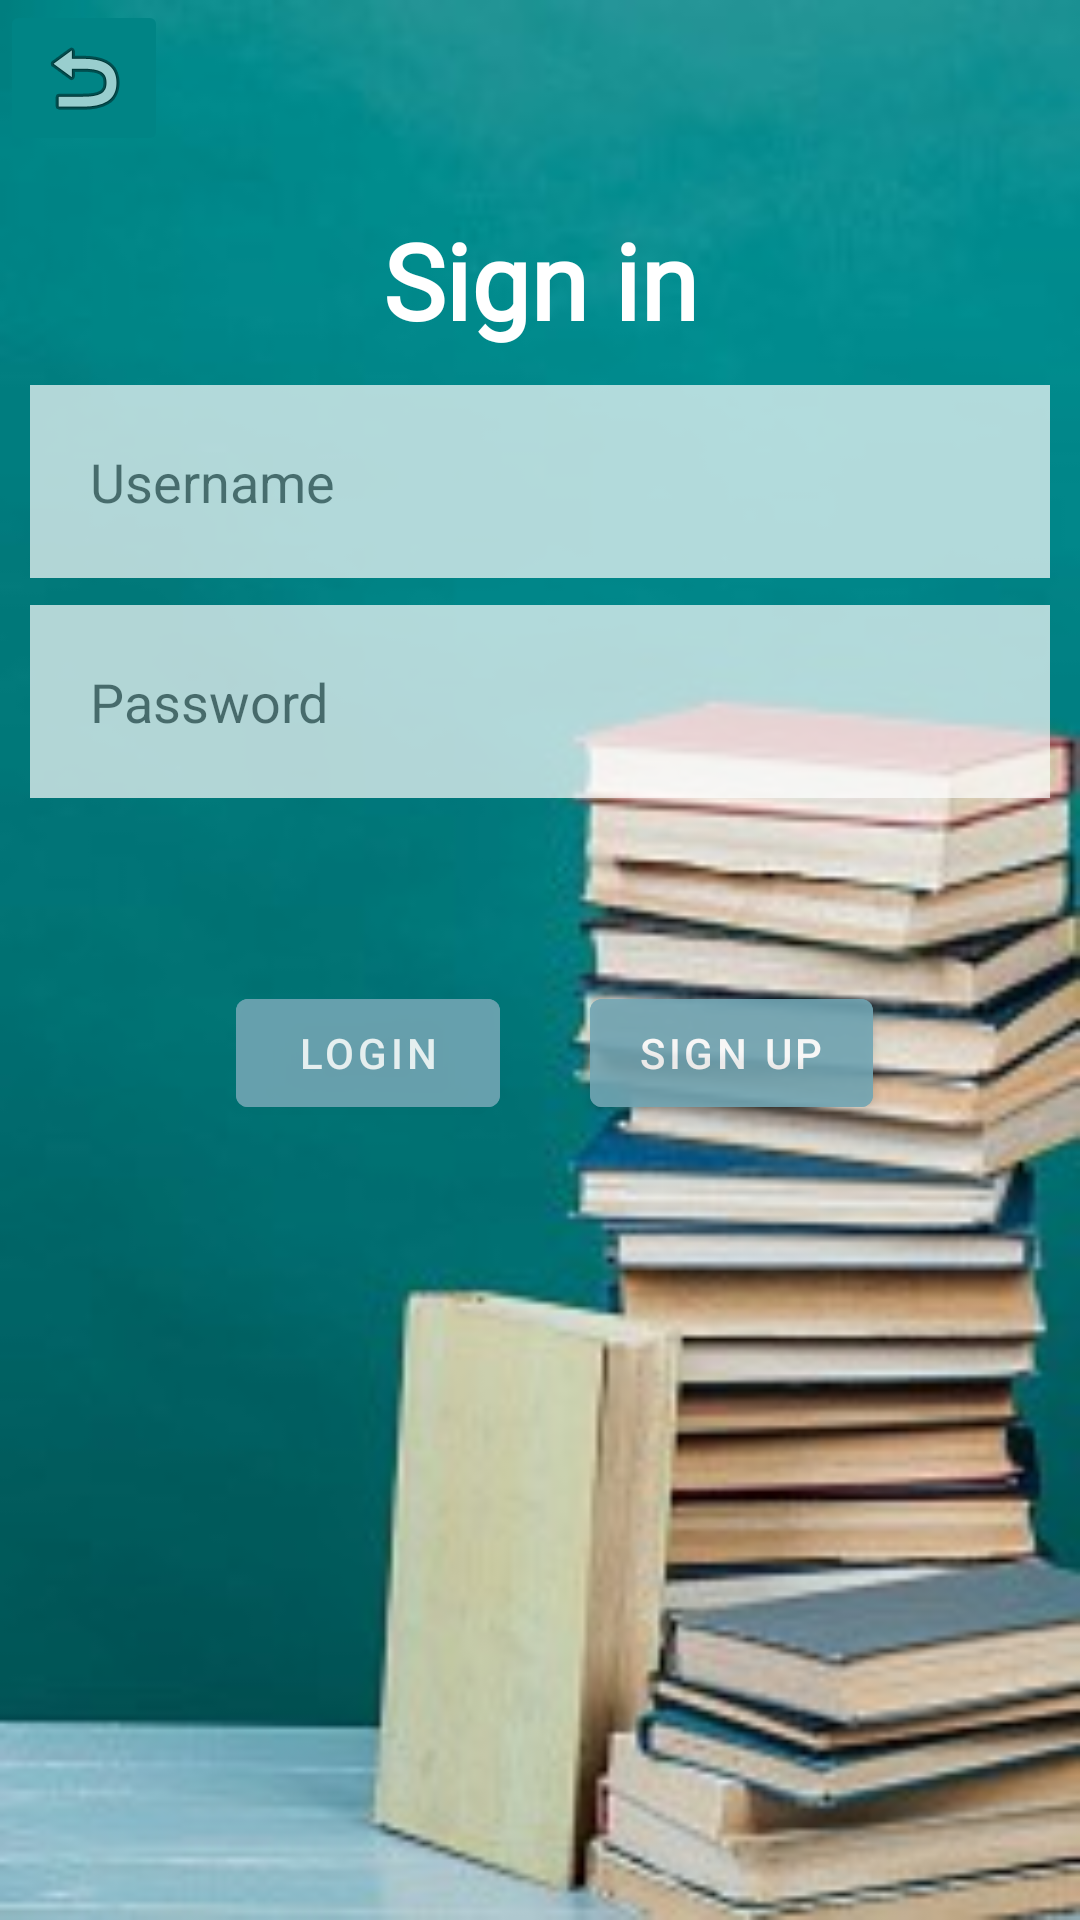

Icon bounding boxes for this 1080x1920 phone screenshot, format (x1, y1, x2, y2):
revert: (51, 48, 120, 110)
